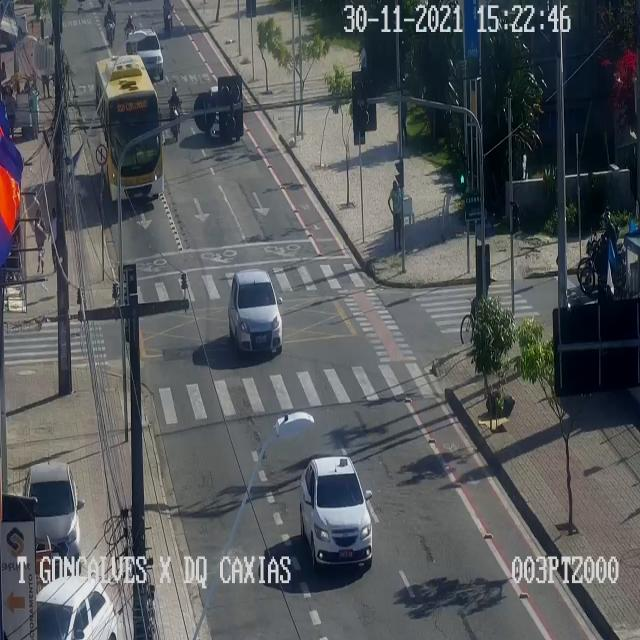Bus: (96, 54, 164, 205)
Car: (298, 456, 373, 572), (26, 464, 82, 559), (36, 576, 118, 639), (227, 270, 284, 356), (128, 28, 162, 81)
Motorcycle: (577, 208, 621, 297), (167, 86, 183, 140), (158, 0, 180, 38), (102, 6, 118, 48), (122, 10, 140, 38)
